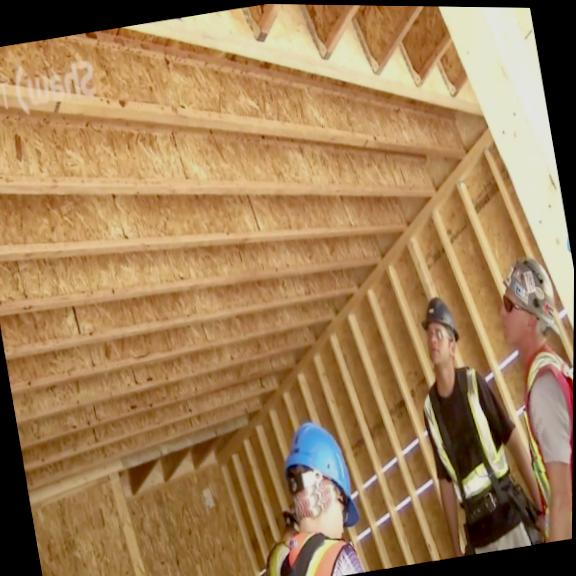safety_vest: (416, 358, 517, 510), (510, 340, 574, 542), (258, 526, 357, 576)
